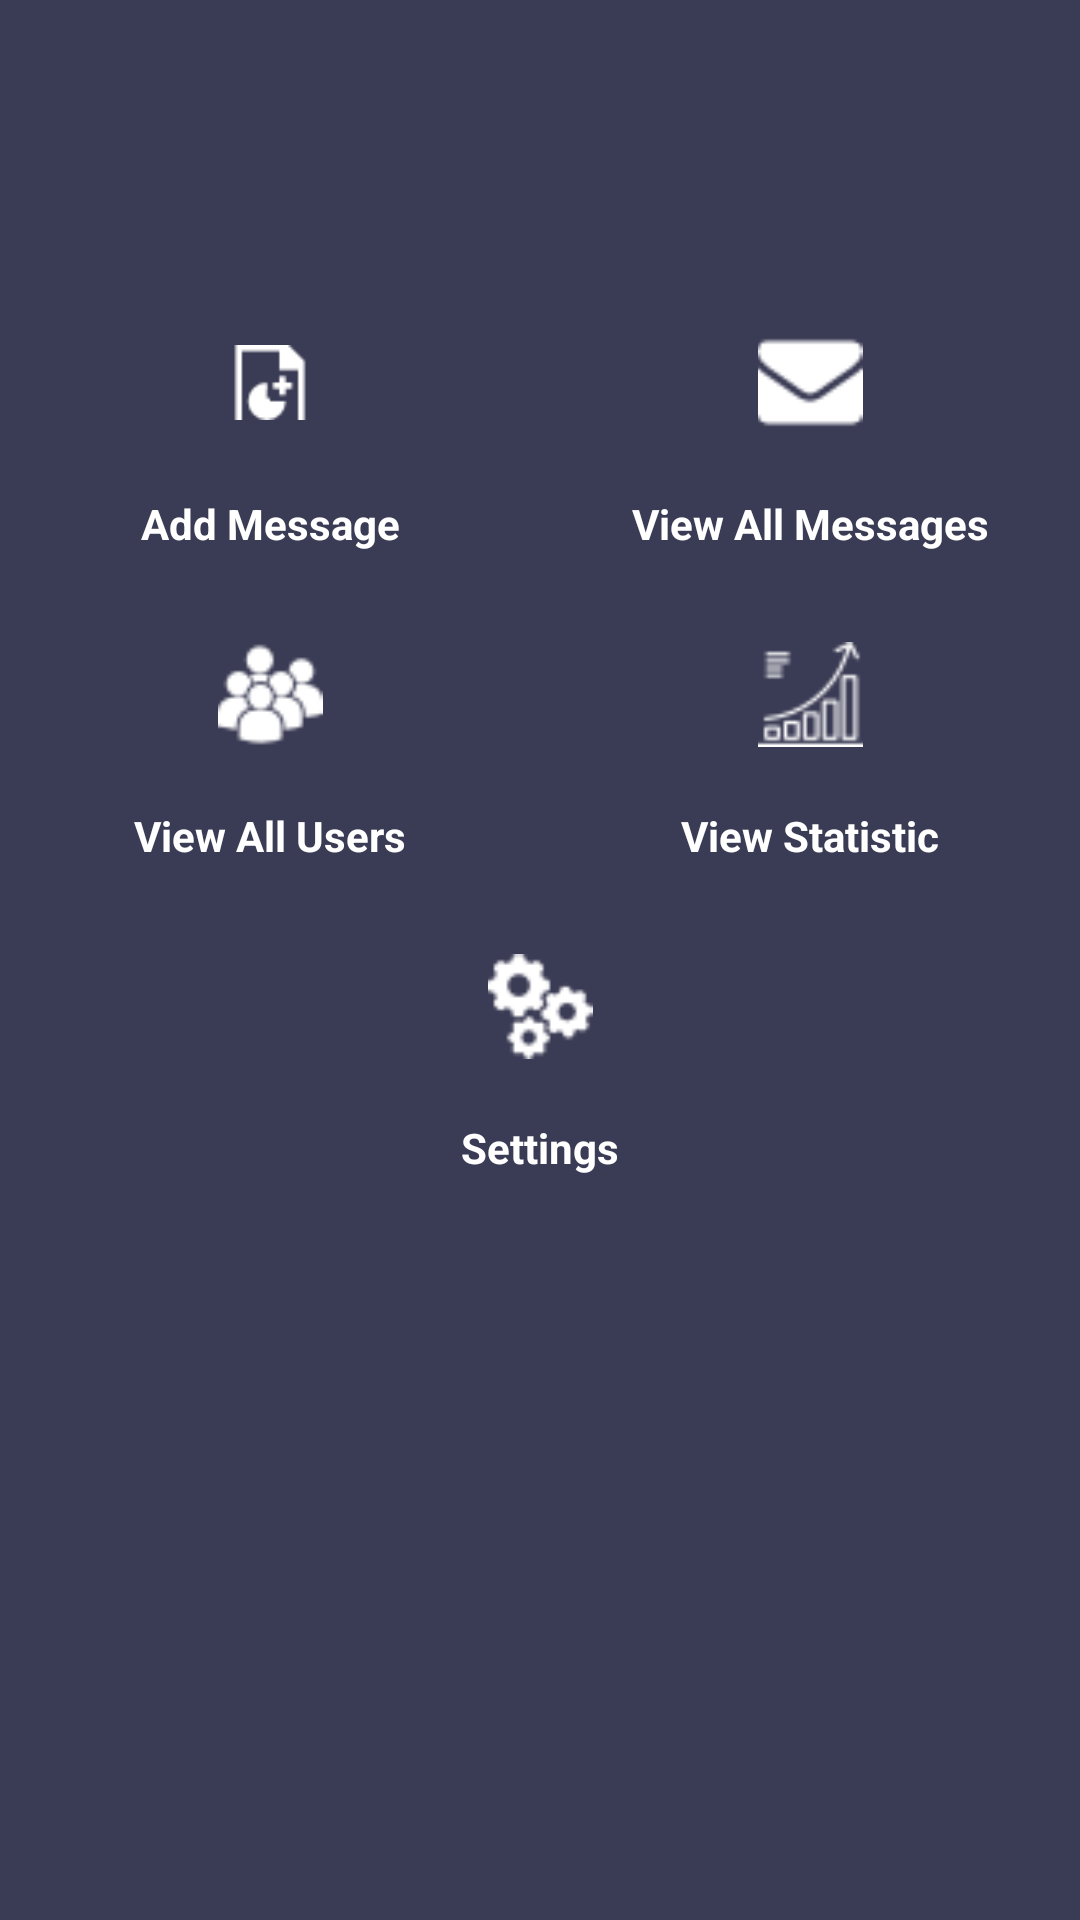

Named icons in this screenshot (1080px×1920px) and their centers, (x=x, y=y):
diagram: (x=810, y=694)
envelope: (x=810, y=382)
